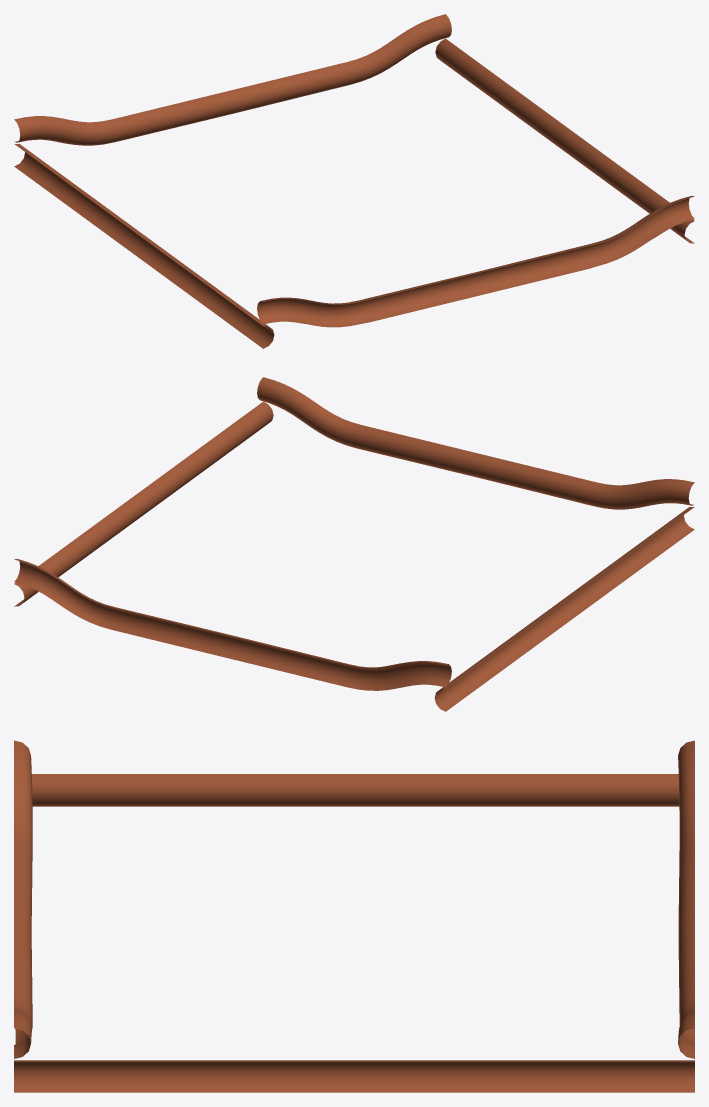
Rendered from SM_tileSol_midle.fbx.
The picture shows the model from 3 angles, top to bottom: view 1: azimuth 30°, elevation 25°; view 2: azimuth 150°, elevation 25°; view 3: azimuth 270°, elevation 25°; orthographic projection. The views are drawn at different scales.
Visible parts, largest first — view 1: SM_tileSol_midle; view 2: SM_tileSol_midle; view 3: SM_tileSol_midle.
Part boxes in pixels (bbox=[...]): SM_tileSol_midle: bbox=[14, 14, 694, 348]; SM_tileSol_midle: bbox=[14, 377, 694, 711]; SM_tileSol_midle: bbox=[14, 740, 694, 1092].
Size of the model in its own units: 200 by 20.84 by 200.
